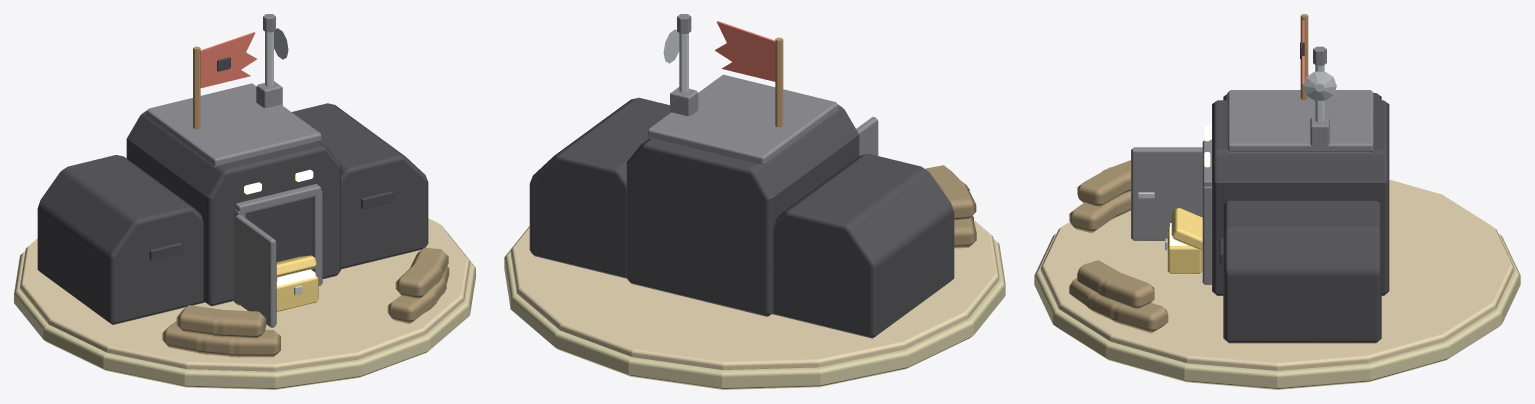
Rendered from command_post_point.glb.
3 renders of one model, left to right at view 1: azimuth 30°, elevation 25°; view 2: azimuth 150°, elevation 25°; view 3: azimuth 270°, elevation 25°, orthographic. The views are drawn at different scales.
Visible parts, largest first — view 1: MerchantShop; view 2: MerchantShop; view 3: MerchantShop.
Boxes of the visible parts, x1=… form: MerchantShop: x1=14, y1=14, x2=475, y2=389; MerchantShop: x1=504, y1=14, x2=1005, y2=389; MerchantShop: x1=1034, y1=14, x2=1520, y2=389.
Size of the model in its own units: 6.3 by 3.76 by 6.3.
